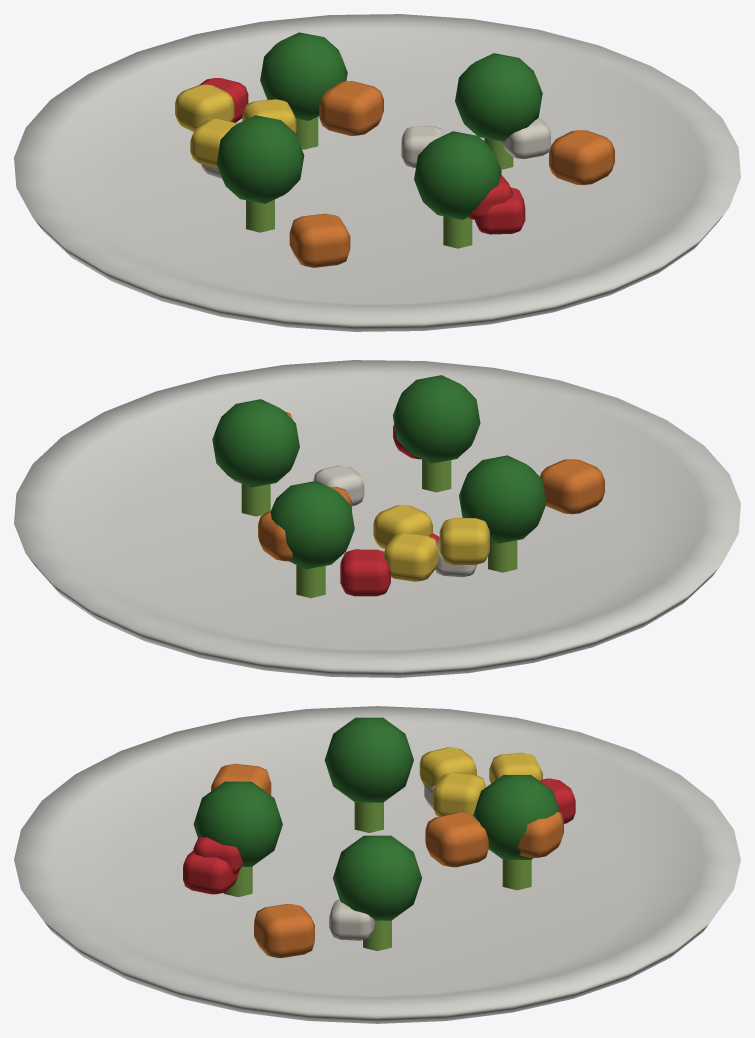
The model's file is item_dish_stir_fry.glb.
3 views of the same model, one above another, from view 1: azimuth 30°, elevation 25°; view 2: azimuth 150°, elevation 25°; view 3: azimuth 270°, elevation 25° (orthographic).
Visible parts, largest first — view 1: item_dish_stir_fry_main; view 2: item_dish_stir_fry_main; view 3: item_dish_stir_fry_main.
Part boxes in pixels (x1,y1,x2,y2): item_dish_stir_fry_main: (14,14,740,331); item_dish_stir_fry_main: (14,360,740,677); item_dish_stir_fry_main: (14,706,740,1023).
Bounding box in the file's own units: 0.26 × 0.052 × 0.26.
